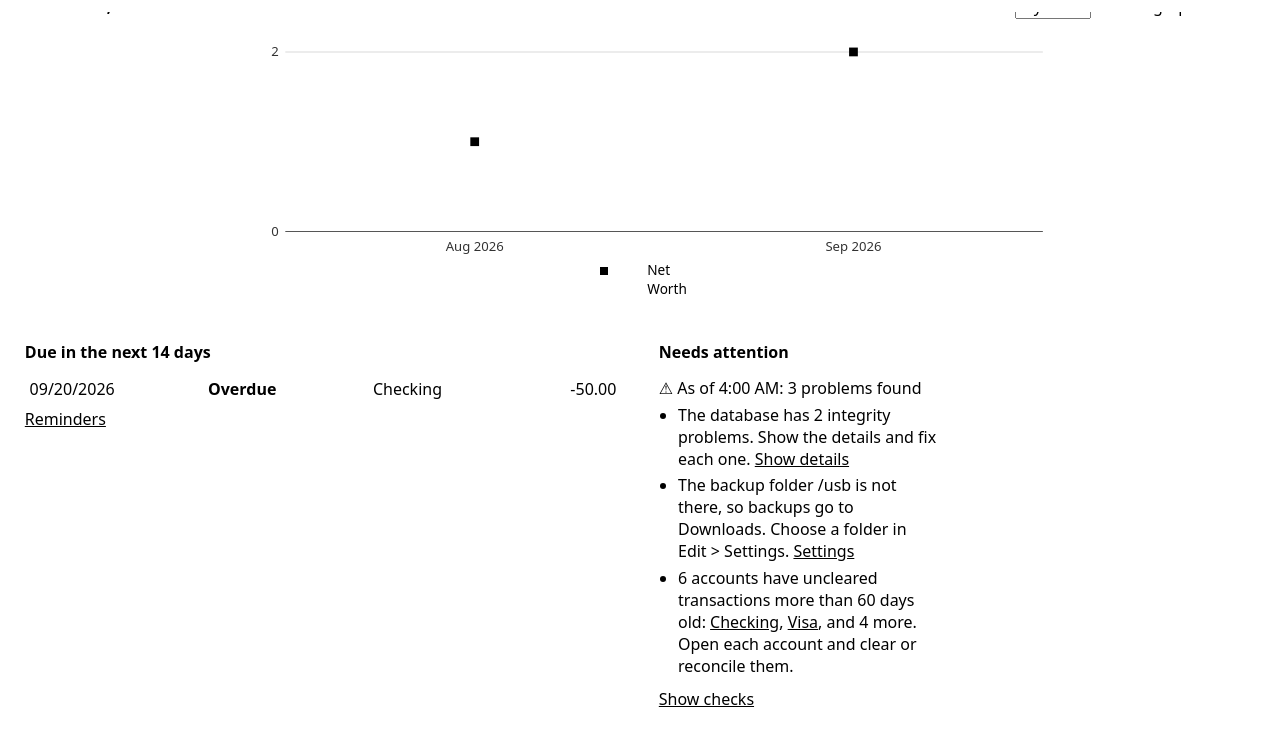
Scenario: Needs attention: problems only, each with what to do (CARD-030) › marks failed checks in the list by symbol and words
The image size is (1280, 732).
Expected: the text "⚠ As of 4:00 AM: 3 problems found" is shown, [659,377,938,399]
Click the button "Show checks" at point(706, 699), box [659,688,754,710]
(page scrolled)
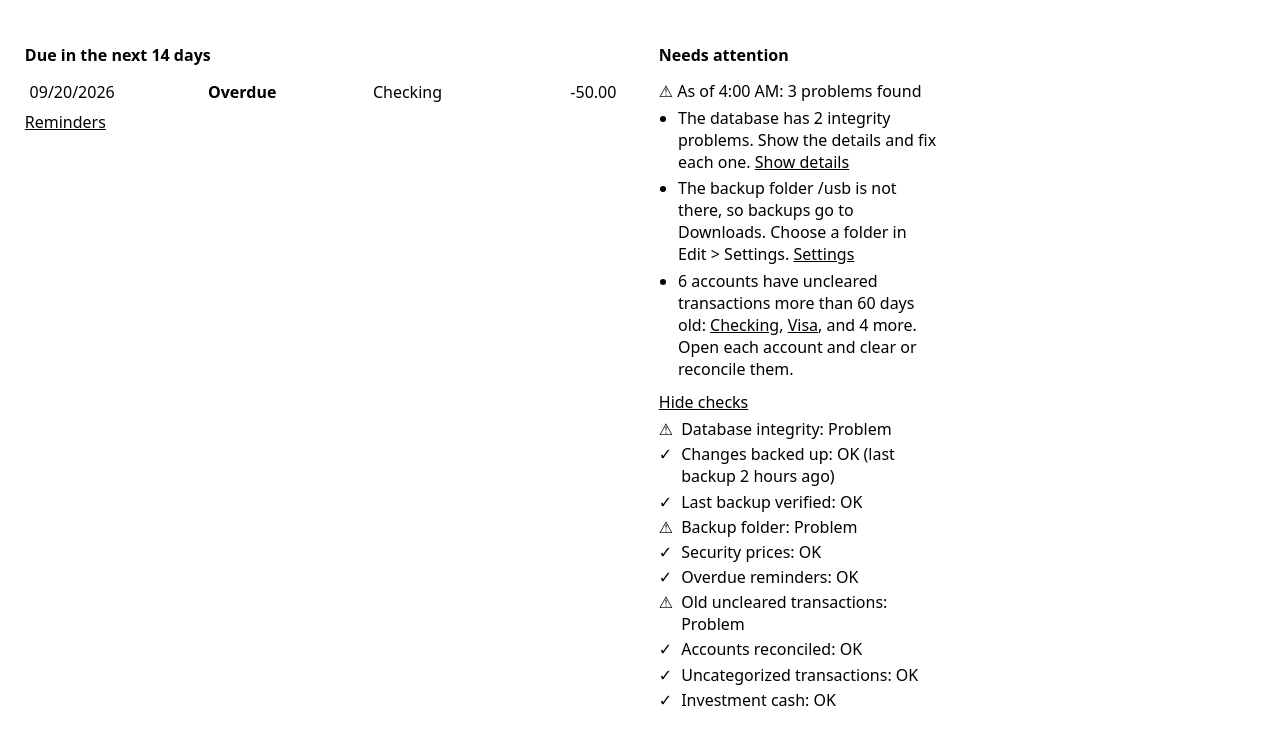
Expected: the list item "⚠ Database integrity: Problem" is shown, [659,418,892,440]
Expected: the list item "✓ Security prices: OK" is shown, [659,541,821,563]
